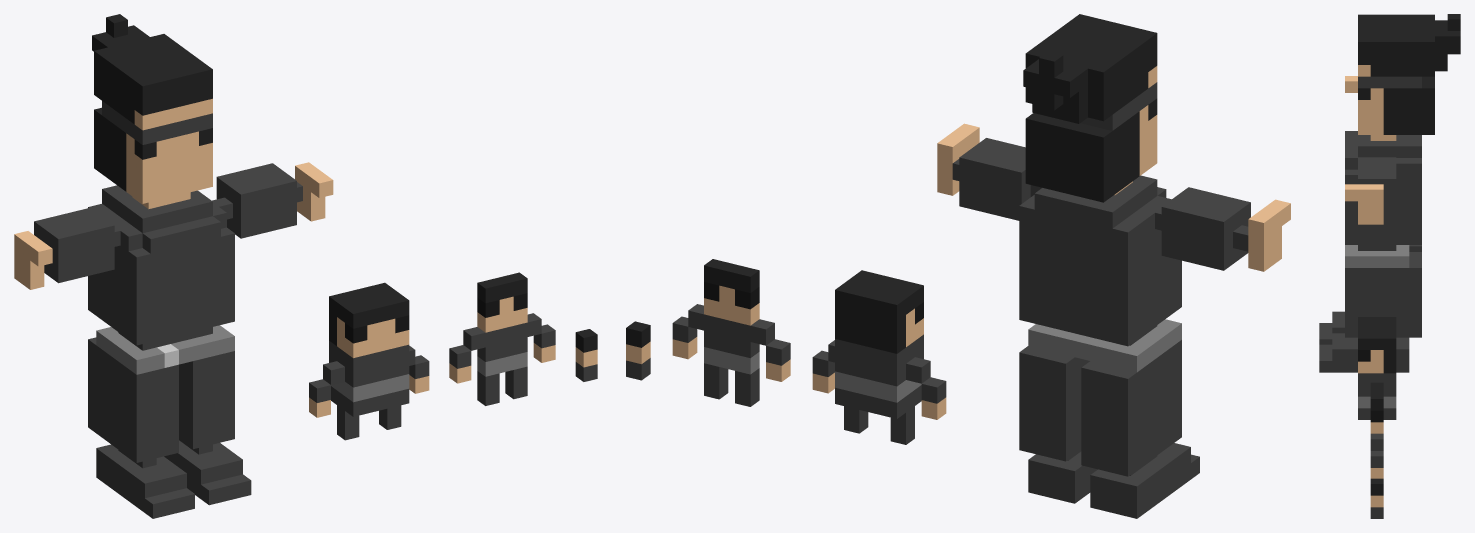
Rendered from Characters_lan.glb.
3 views of the same model, side by side, from view 1: azimuth 30°, elevation 25°; view 2: azimuth 150°, elevation 25°; view 3: azimuth 270°, elevation 25° (orthographic). The views are drawn at different scales.
Visible parts, largest first — view 1: pl0; view 2: pl0; view 3: pl0.
Part boxes in pixels (x1,y1,x2,y2): pl0: (14,14,597,518); pl0: (626,14,1290,518); pl0: (1319,14,1460,518).
Bounding box in the file's own units: 41 × 29 × 11.
Materials: 1 (1 with a texture image).
